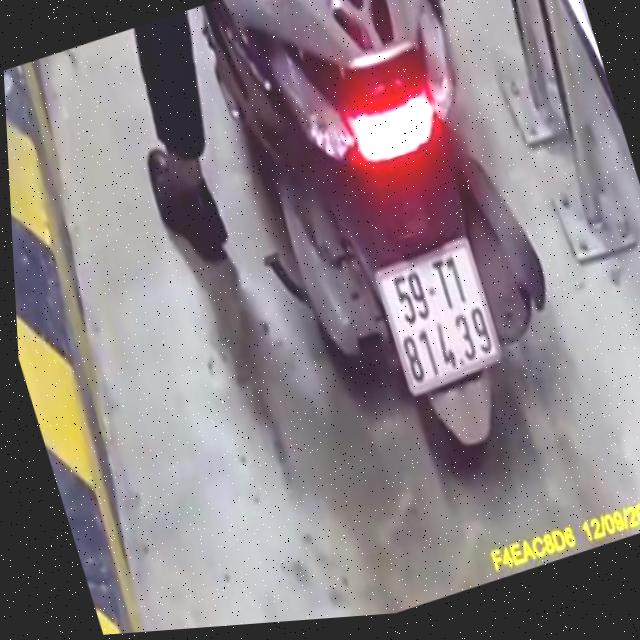motorcycle: (177, 0, 606, 522)
plate: (366, 229, 516, 399)
